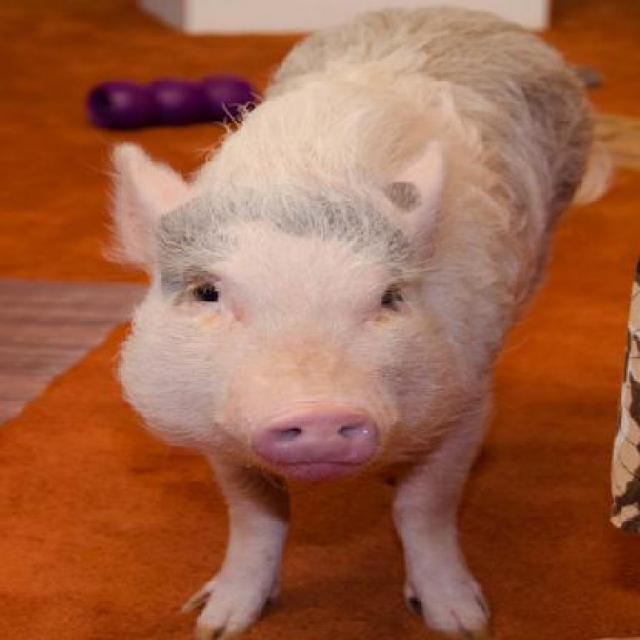pig: (89, 3, 602, 639)
